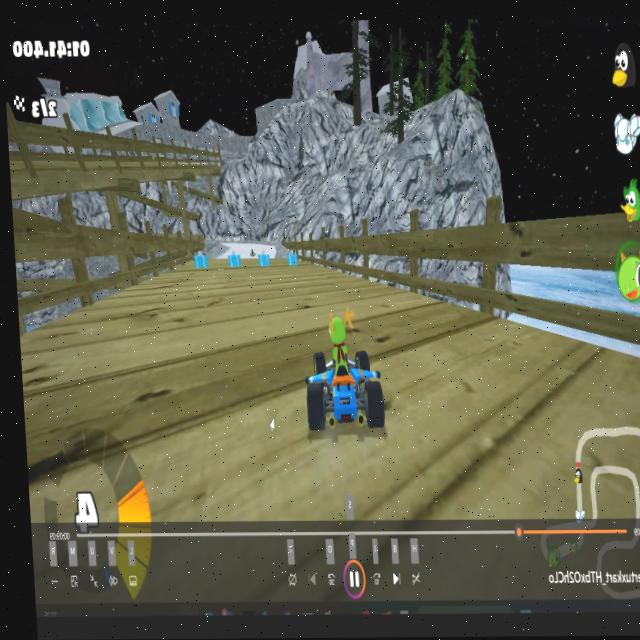bonus: (256, 248, 274, 274), (189, 253, 212, 273), (224, 250, 241, 273), (285, 252, 302, 273)
player_kart: (300, 309, 387, 445)
track: (19, 311, 311, 527), (383, 367, 640, 519), (379, 324, 553, 401), (111, 270, 353, 309), (302, 440, 389, 517), (377, 302, 486, 360), (351, 282, 399, 306), (224, 238, 261, 254)
